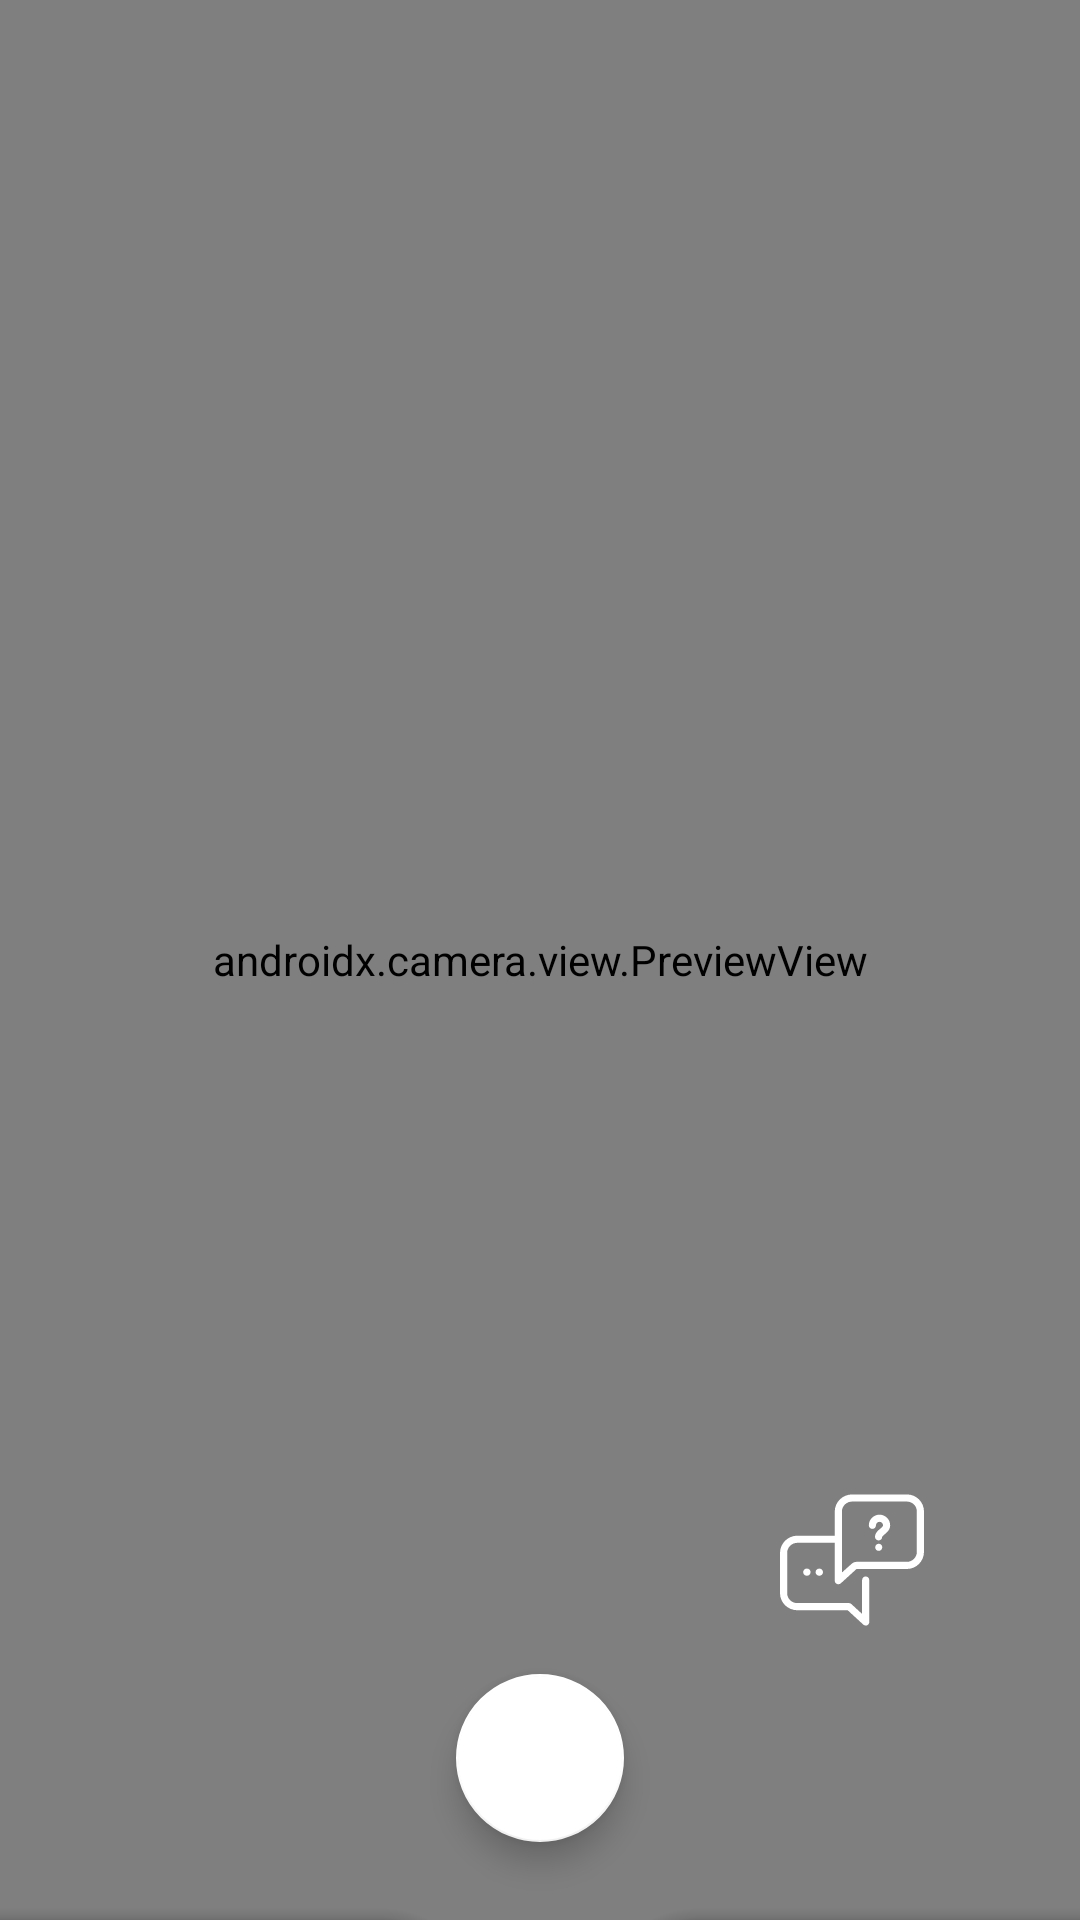

Named icons in this screenshot (1080px×1920px) and their centers, point (x, y):
help: point (852, 1560)
